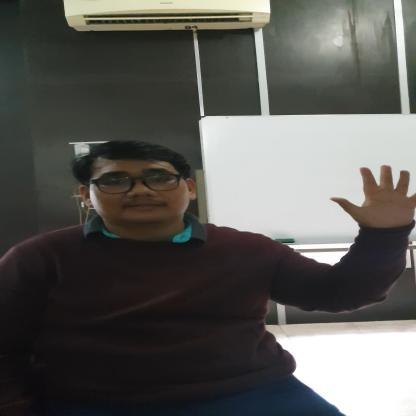Halo: (326, 162, 416, 231)
